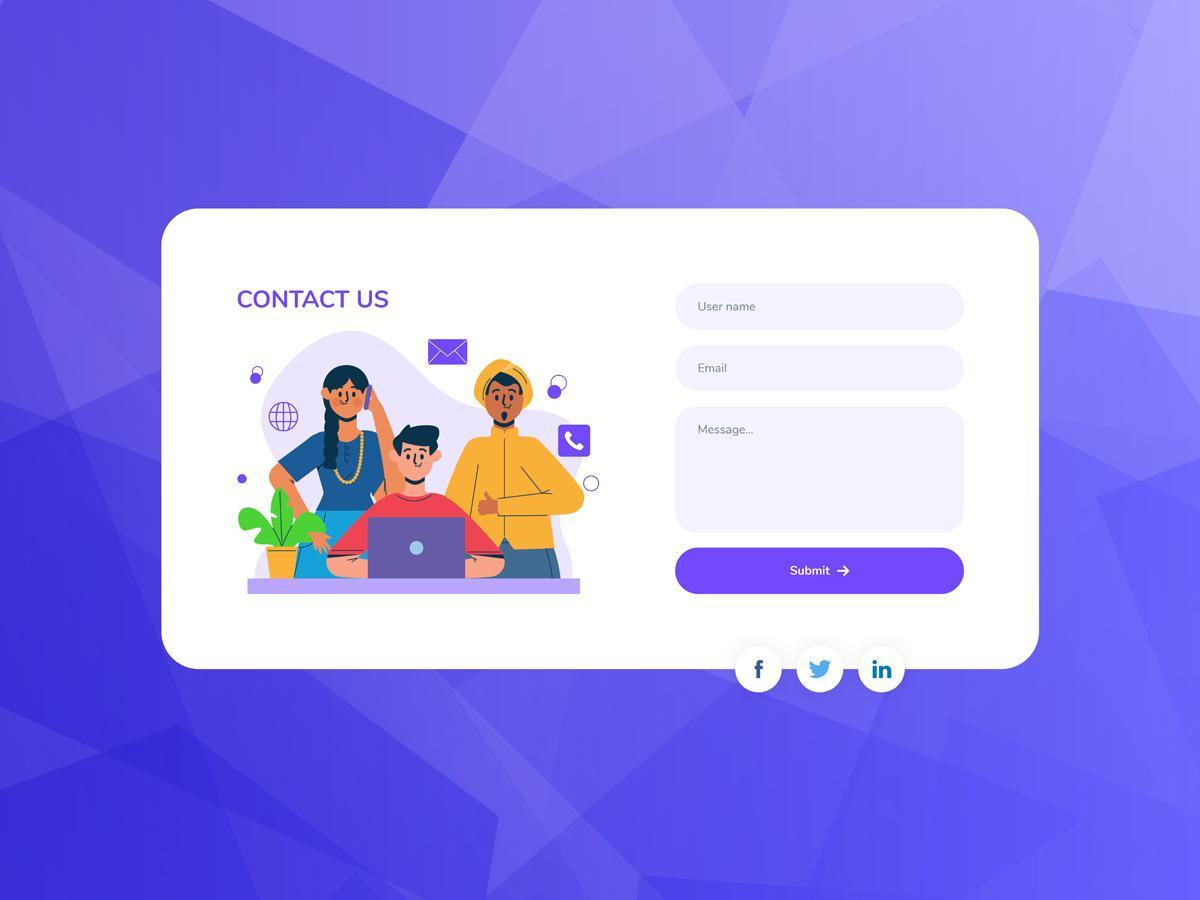button: (676, 547, 966, 597)
input: (675, 282, 965, 332), (677, 345, 966, 394)
label: (237, 286, 396, 314)
